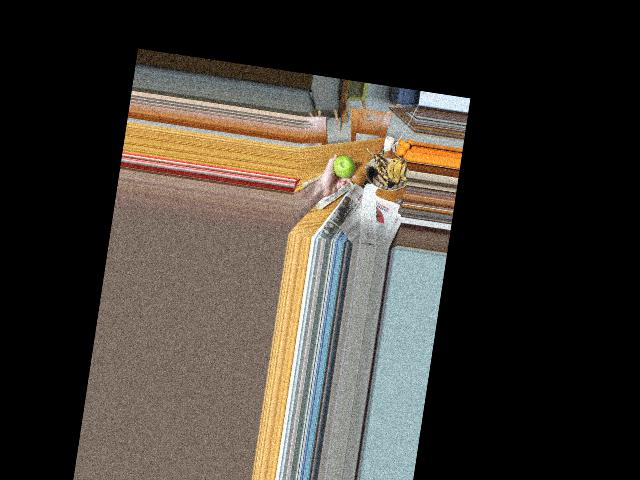apple: (330, 152, 355, 179)
